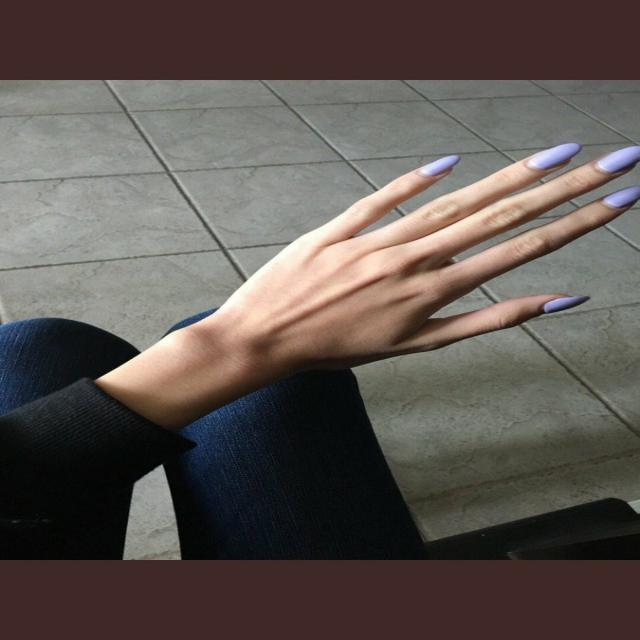bare_hand: (178, 140, 638, 385)
